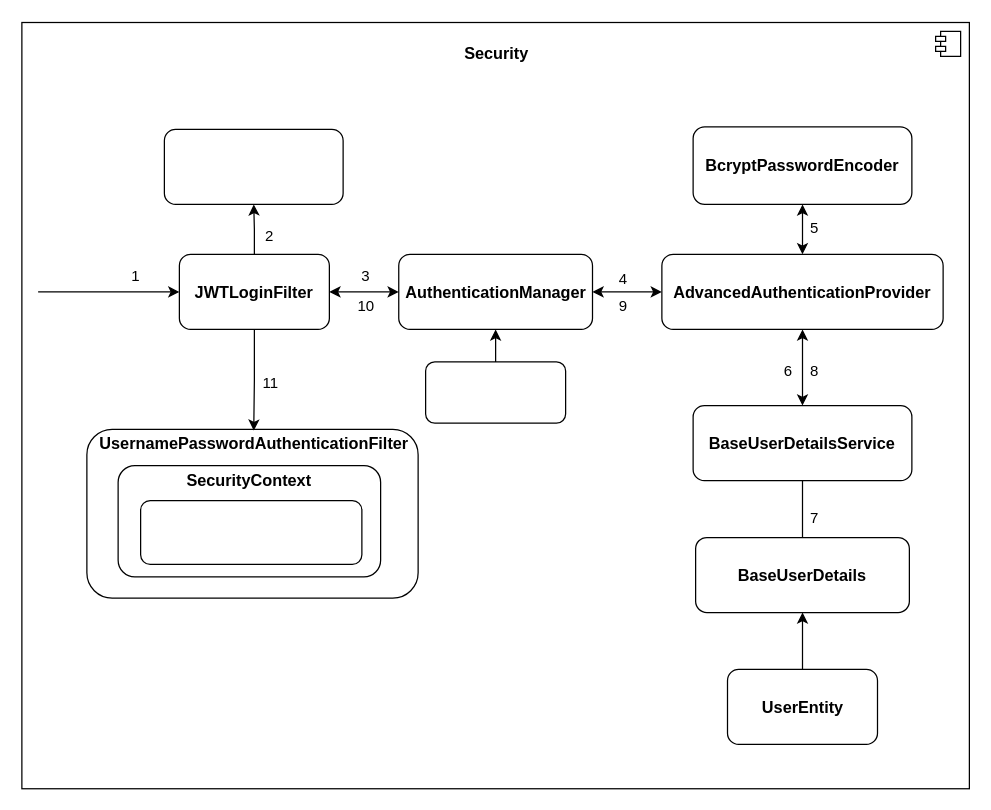
Some shapes in this 991 by 810 pixel diagram are drawn without their labels. Here are the shapes that lost their labels. From the top down, the centre of each, then its label:
(253,166): UsernamePassword AuthenticationToken
(495,392): Providermanager
(250,531): Authentication Principal + Authorities
